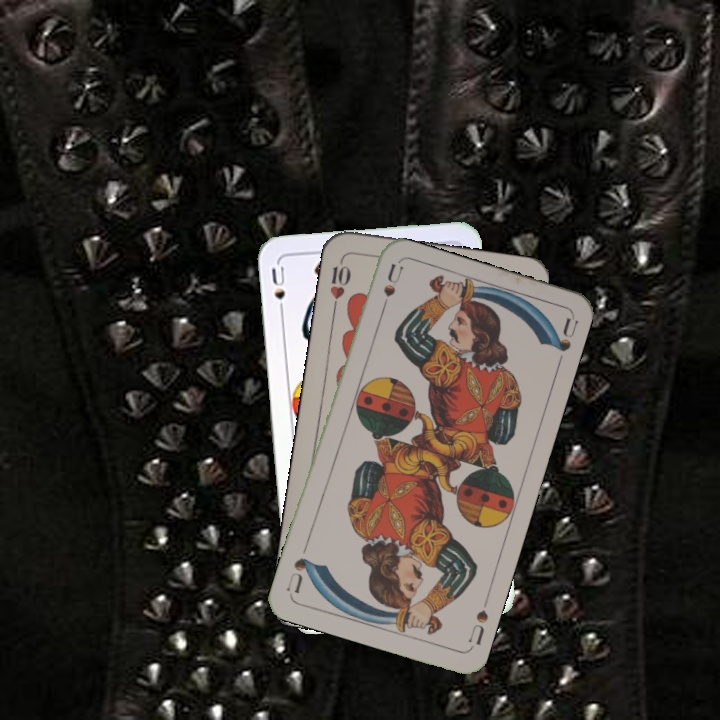H10: (326, 254, 353, 313)
SU: (376, 260, 405, 319), (267, 262, 288, 320), (464, 606, 491, 648)
